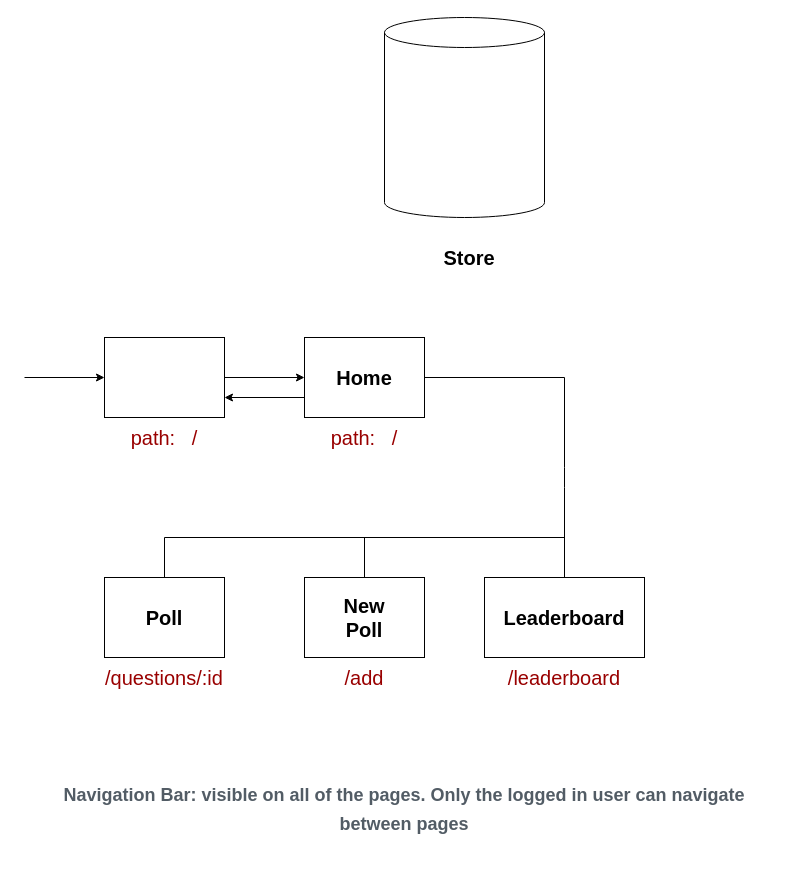
Some shapes in this 802 by 889 pixel diagram are drawn without their labels. Here are the shapes that lost their labels. From the top down, the box of each, then its label:
(384, 16, 544, 218): AuthedUser, Users, Questions
(104, 336, 224, 418): Login
